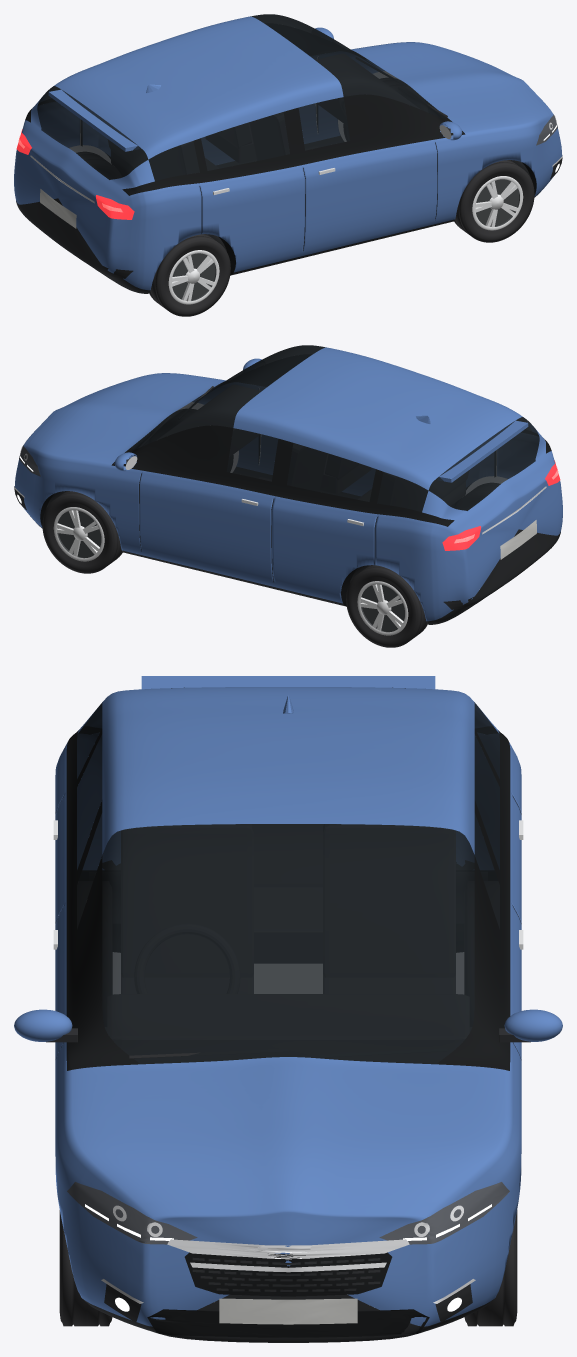
The model's file is maruti-baleno-model.glb.
3 views of the same model, one above another, from view 1: azimuth 30°, elevation 25°; view 2: azimuth 150°, elevation 25°; view 3: azimuth 270°, elevation 25° (orthographic). The views are drawn at different scales.
Parts seen in each view (by area): view 1: Body, Wheel.004, Wheel.002, Dashboard, SeatBack.002, SeatBack.001, Spoiler, RearBumper, TailLamp, SeatBase, PlateRear, Wheel.003 (+2 smaller); view 2: Body, Wheel.003, Wheel.001, Dashboard, SeatBack.002, SeatBack, Spoiler, RearBumper, TailLamp, SeatBase.001, PlateRear, Wheel.004 (+2 smaller); view 3: Body, Dashboard, SeatBack, SeatBack.001, Grille, Intake, SeatBase.002, Headlamp, SeatBack.002, PlateFront, Spoiler, GrilleChrome0 (+12 smaller).
Part boxes in pixels (<box>): Body: <box>14,14,562,293</box>; Wheel.004: <box>149,234,230,316</box>; Wheel.002: <box>454,160,534,242</box>; Dashboard: <box>316,54,417,125</box>; SeatBack.002: <box>108,140,199,180</box>; SeatBack.001: <box>249,112,289,160</box>; Spoiler: <box>48,89,139,151</box>; RearBumper: <box>16,201,133,278</box>; TailLamp: <box>16,129,134,219</box>; SeatBase: <box>206,125,255,162</box>; PlateRear: <box>40,189,76,228</box>; Wheel.003: <box>77,152,121,179</box>; Body: <box>14,345,562,624</box>; Wheel.003: <box>346,565,427,647</box>; Wheel.001: <box>42,491,122,573</box>; Dashboard: <box>159,385,260,456</box>; SeatBack.002: <box>377,471,468,511</box>; SeatBack: <box>287,443,326,491</box>; Spoiler: <box>438,420,528,482</box>; RearBumper: <box>443,532,560,609</box>; TailLamp: <box>442,460,560,550</box>; SeatBase.001: <box>321,456,370,493</box>; PlateRear: <box>500,520,536,559</box>; Wheel.004: <box>455,483,499,510</box>; Body: <box>55,687,521,1342</box>; Dashboard: <box>108,994,468,1063</box>; SeatBack: <box>323,824,455,976</box>; SeatBack.001: <box>121,824,253,976</box>; Grille: <box>184,1252,392,1296</box>; Intake: <box>147,1309,429,1337</box>; SeatBase.002: <box>254,888,322,962</box>; Headlamp: <box>67,1182,509,1244</box>; SeatBack.002: <box>254,824,322,886</box>; PlateFront: <box>219,1298,357,1324</box>; Spoiler: <box>141,676,435,689</box>; GrilleChrome0: <box>167,1239,409,1259</box>.
Size of the model in its own units: 3.93 by 1.5 by 2.06.
